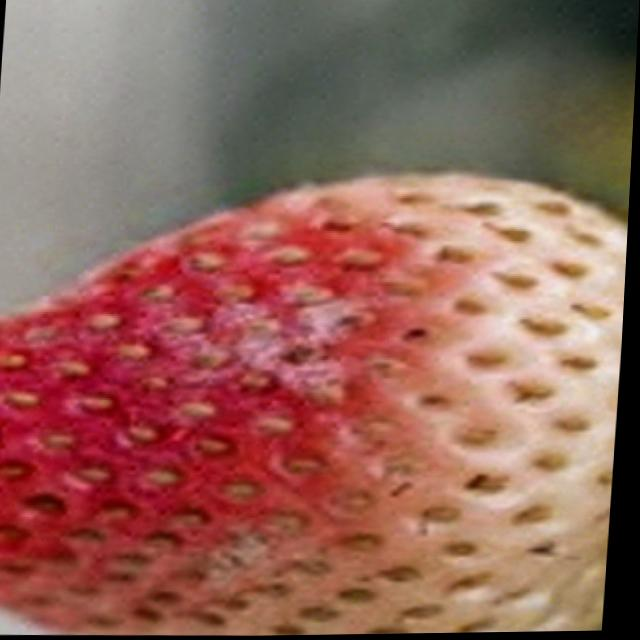Powdery Mildew Fruit: (29, 228, 408, 636)
